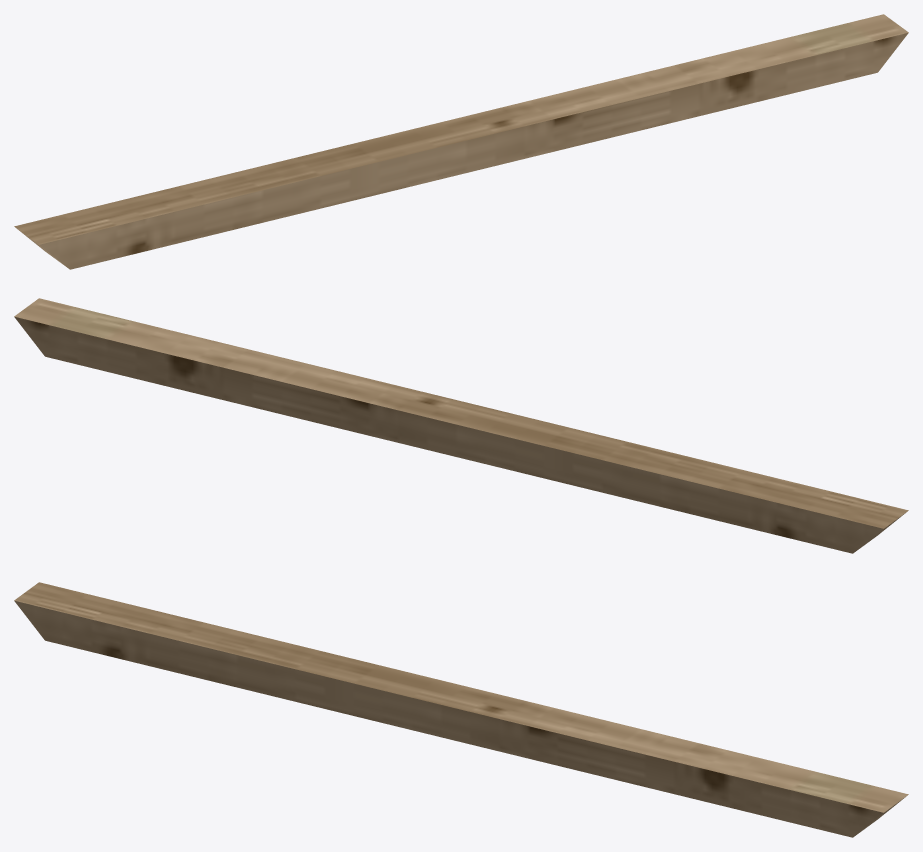
Rendered from Joglo_part_286.fbx.
The picture shows the model from 3 angles, top to bottom: view 1: azimuth 30°, elevation 25°; view 2: azimuth 150°, elevation 25°; view 3: azimuth 330°, elevation 25°; orthographic projection.
Visible parts, largest first — view 1: Mesh350_Wood___Pine_Grained_Horizontal_0.001; view 2: Mesh350_Wood___Pine_Grained_Horizontal_0.001; view 3: Mesh350_Wood___Pine_Grained_Horizontal_0.001.
Part boxes in pixels (left/top/right/bottom): Mesh350_Wood___Pine_Grained_Horizontal_0.001: left=14, top=14, right=908, bottom=269; Mesh350_Wood___Pine_Grained_Horizontal_0.001: left=14, top=298, right=908, bottom=553; Mesh350_Wood___Pine_Grained_Horizontal_0.001: left=14, top=582, right=908, bottom=837.
Size of the model in its own units: 27.56 by 0.9842 by 1.38.
